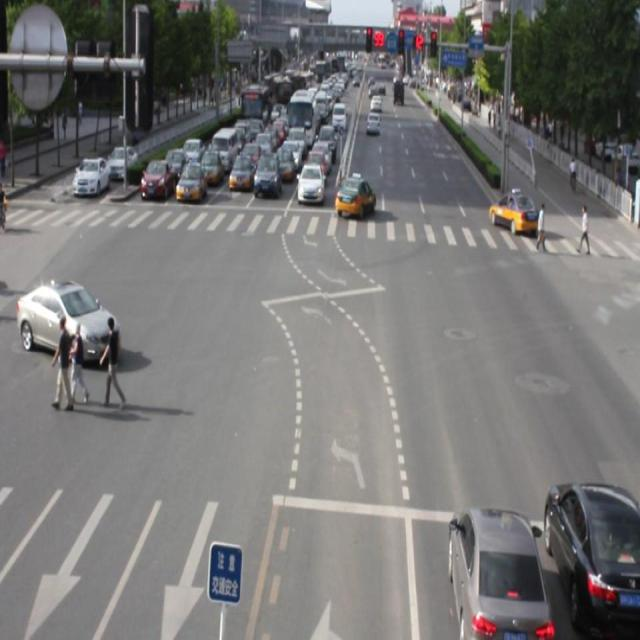car: (542, 487, 640, 640), (446, 513, 544, 640), (18, 278, 119, 367)
